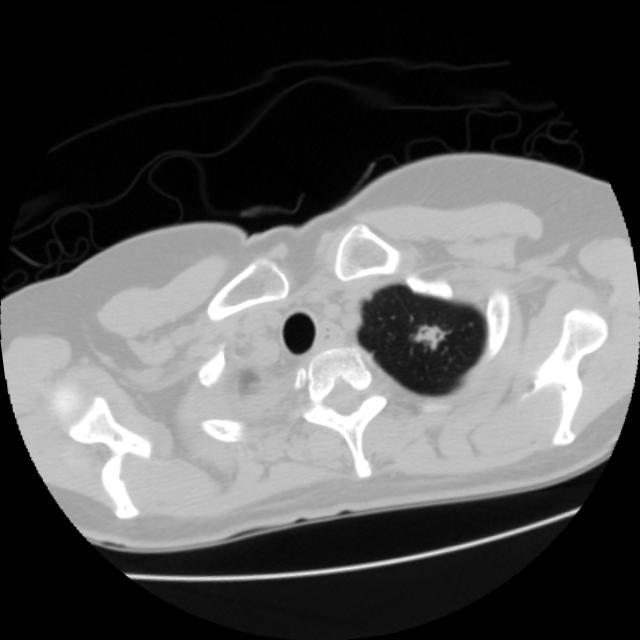nodule: (393, 298, 462, 367)
